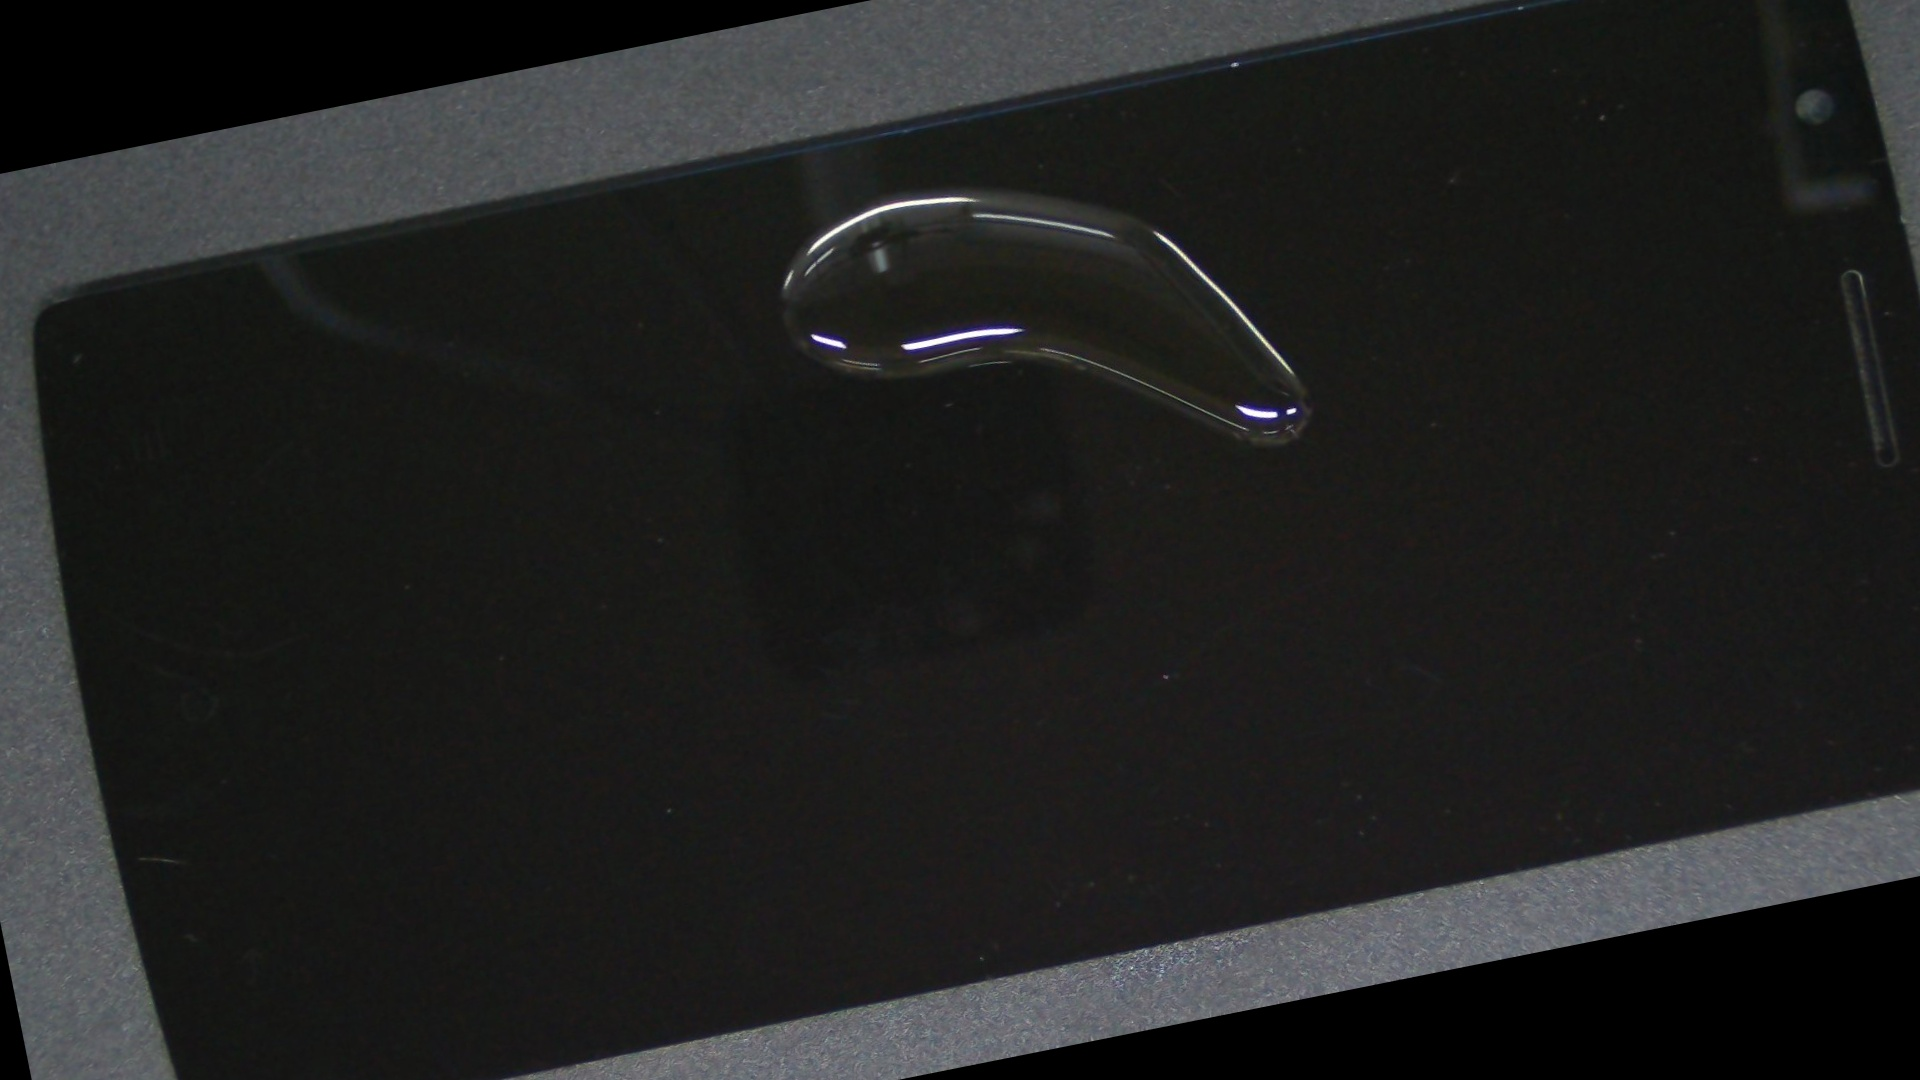oil: (375, 0, 1408, 388)
